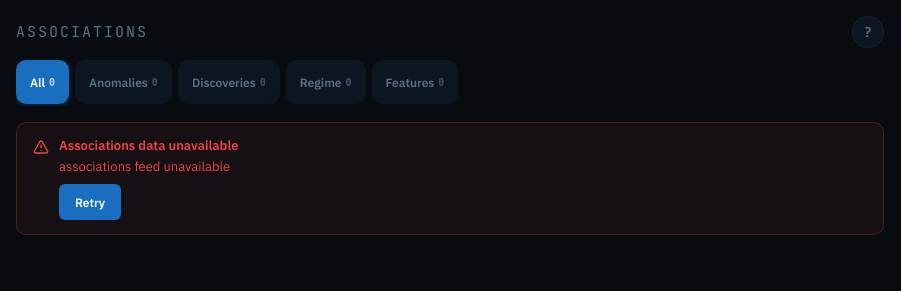
Associations view async data › shows an error state on failure and refetches on retry
Expected: the text "associations feed unavailable" is shown, [59,158,230,175]
Click the button "Retry".
click(90, 202)  # box [59,184,121,220]
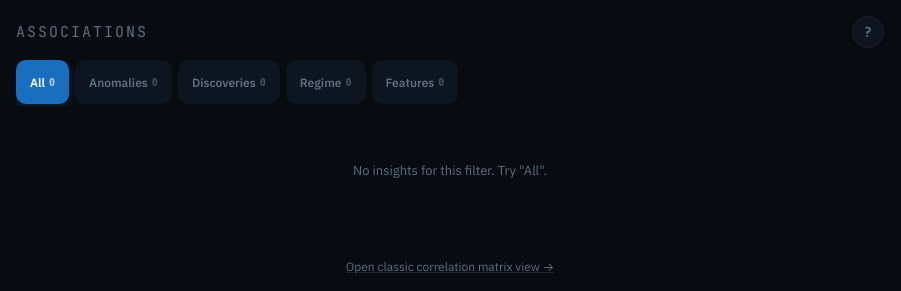
Now the text "associations feed unavailable" is gone
